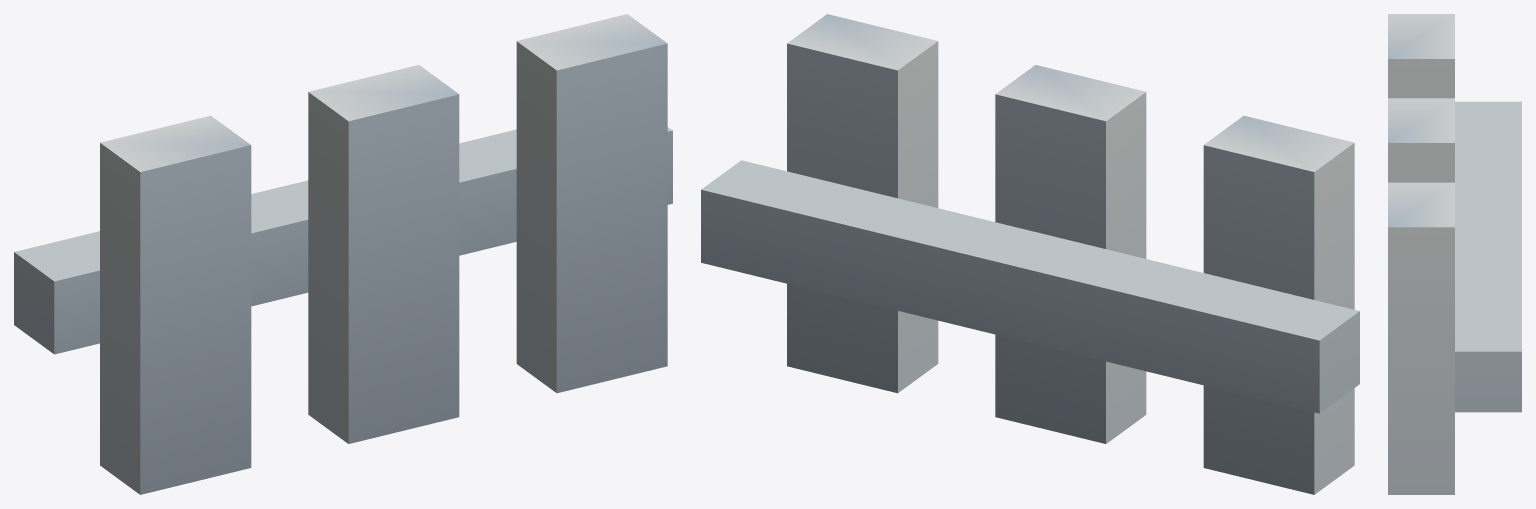
The model's file is Fence_1_2.fbx.
3 views of the same model, side by side, from view 1: azimuth 30°, elevation 25°; view 2: azimuth 150°, elevation 25°; view 3: azimuth 270°, elevation 25° (orthographic). The views are drawn at different scales.
Parts seen in each view (by area): view 1: Fence_1_2; view 2: Fence_1_2; view 3: Fence_1_2.
Boxes of the visible parts, <box> form: Fence_1_2: <box>14,14,672,494</box>; Fence_1_2: <box>701,14,1359,494</box>; Fence_1_2: <box>1388,14,1521,494</box>.
Bounding box in the file's own units: 322 × 160 × 72.63.
